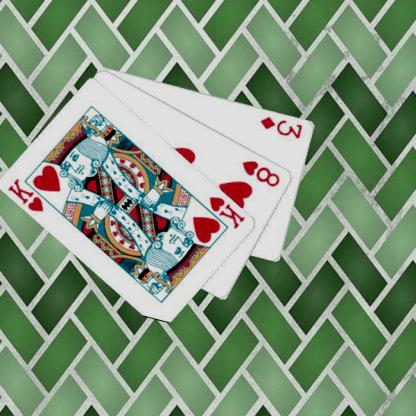3D: (258, 114, 304, 140)
8H: (239, 157, 282, 188)
KH: (5, 175, 46, 213), (206, 193, 247, 230)
